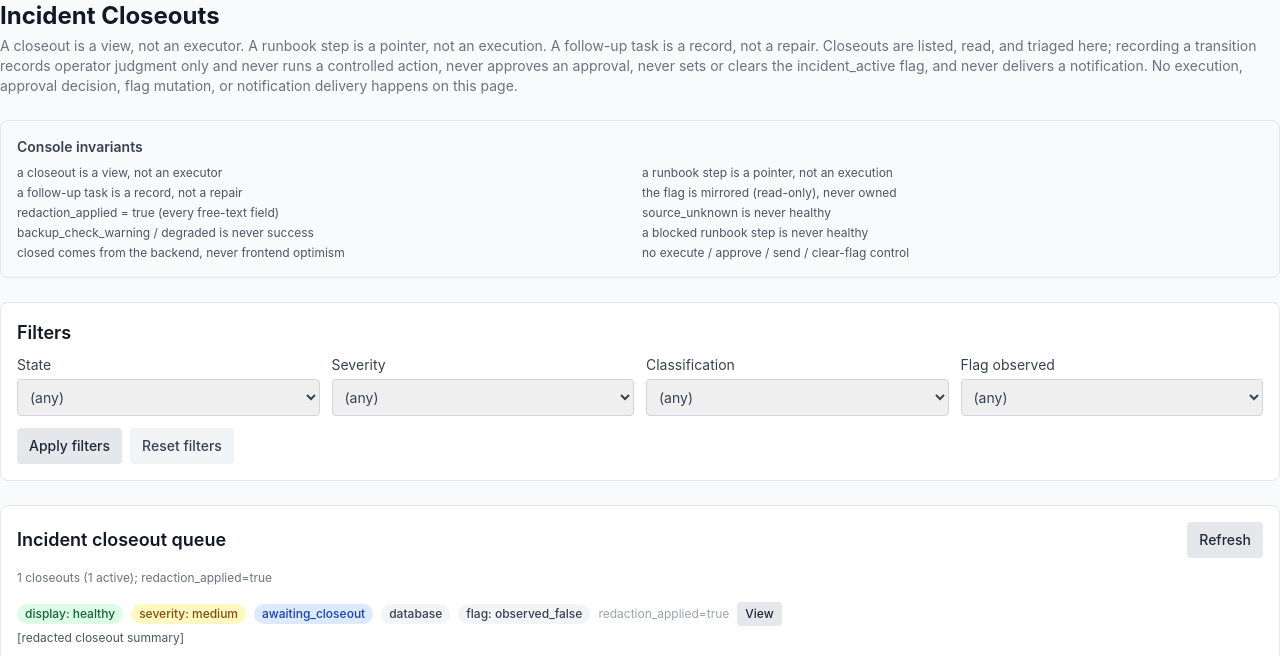
Test: PlatformIncidentCloseoutsPage › an observation done step requires an evidence note before it can be recorded
Expected: the list item with test id "ic-queue-item" is shown, [17, 602, 782, 645]
Click the button with test id "ic-view-btn".
click(759, 614)  # box [737, 602, 782, 626]
(page scrolled)
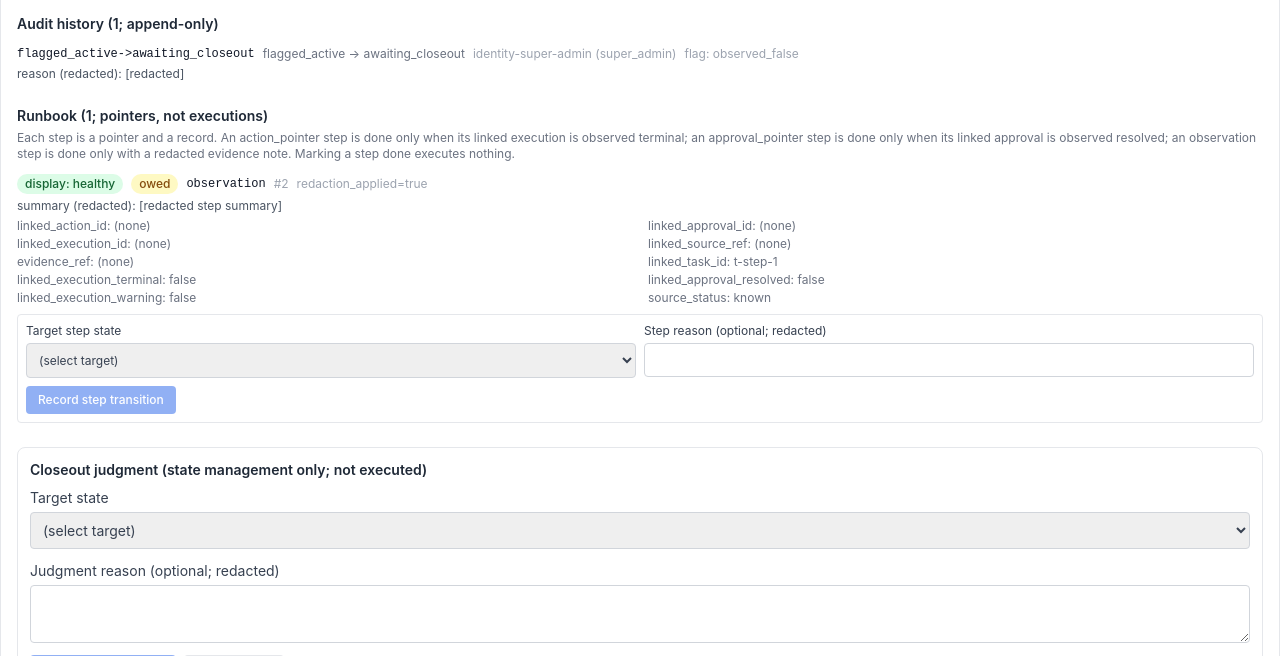
Select "done" in the dropdown with test id "ic-step-target" at {"x": 331, "y": 360}, box [26, 343, 636, 378]
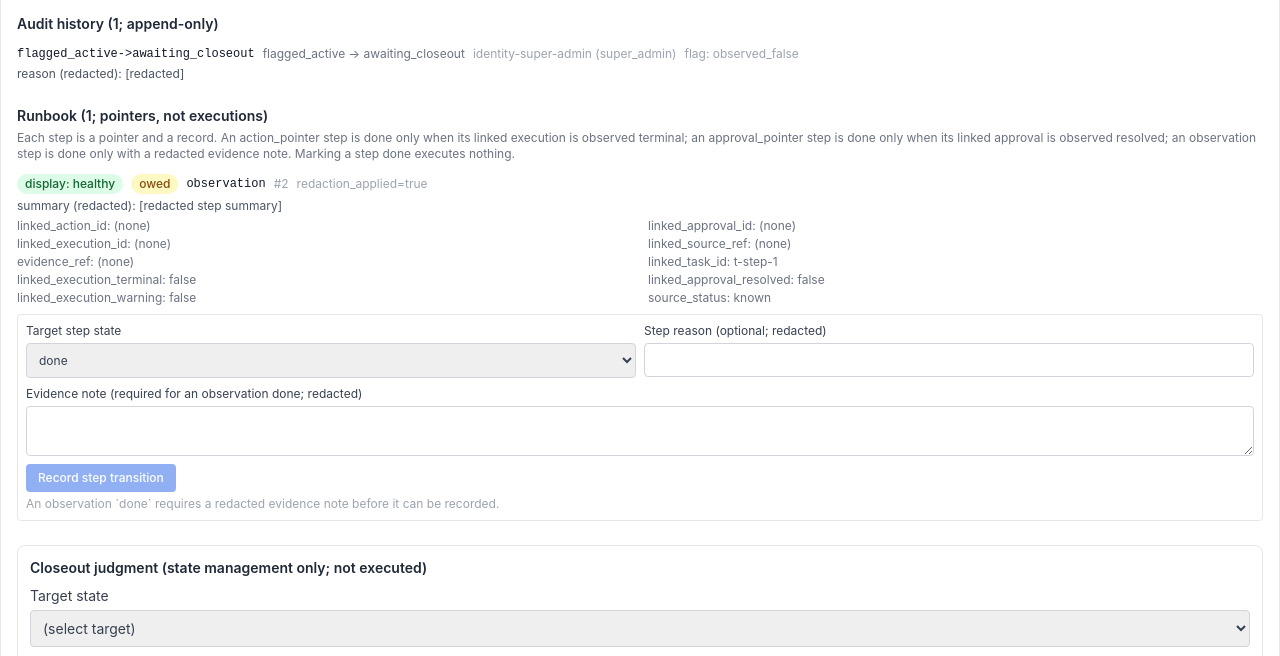
Expected: the button with test id "ic-step-submit" is disabled, [26, 464, 176, 492]
Expected: the text box with test id "ic-step-evidence" is shown
Type "verified manually" into the text box with test id "ic-step-evidence".
click(640, 431); type("verified manually")  # box [26, 406, 1254, 456]
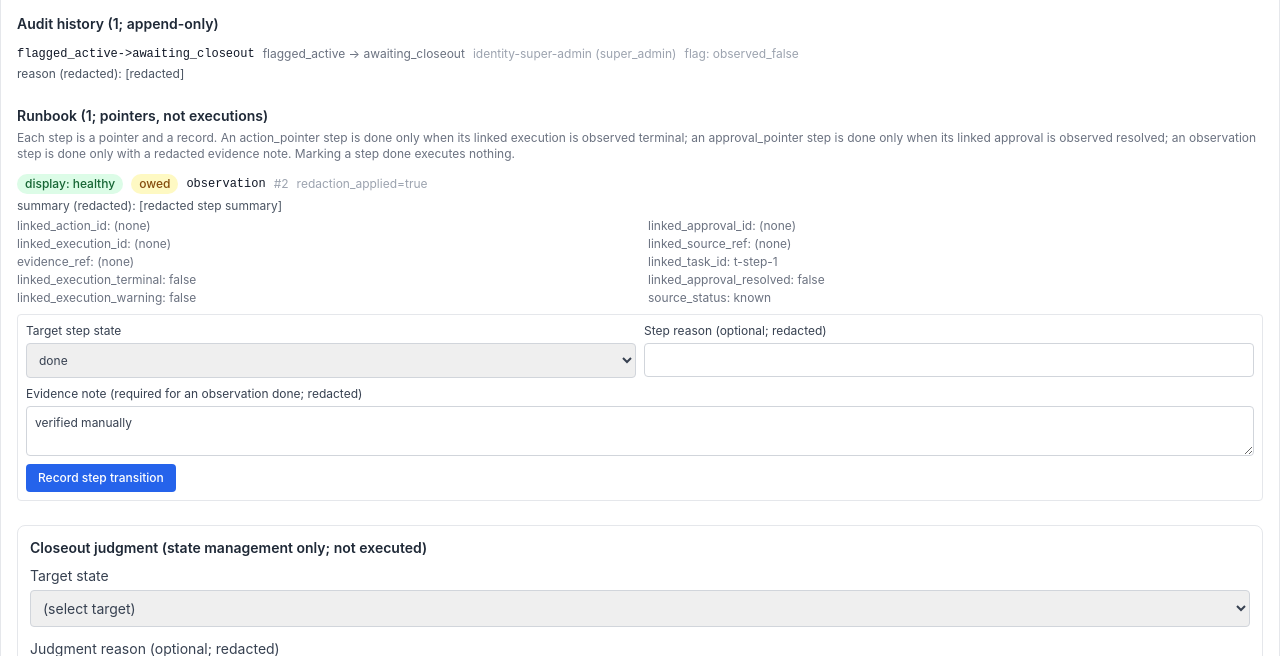
Expected: the button with test id "ic-step-submit" is enabled, [26, 464, 176, 492]
